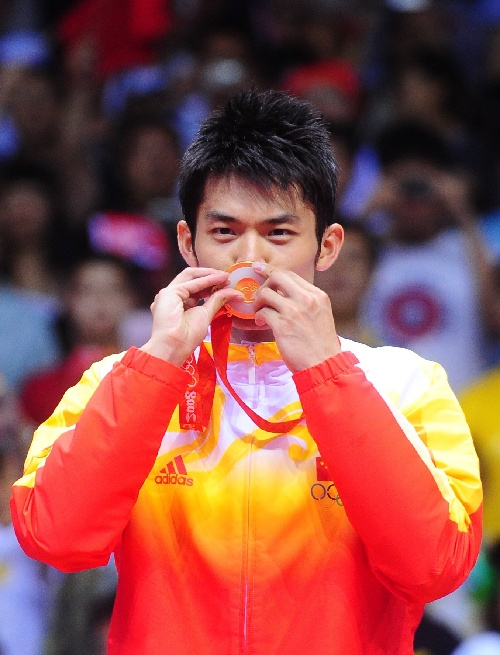face: (198, 157, 314, 321)
